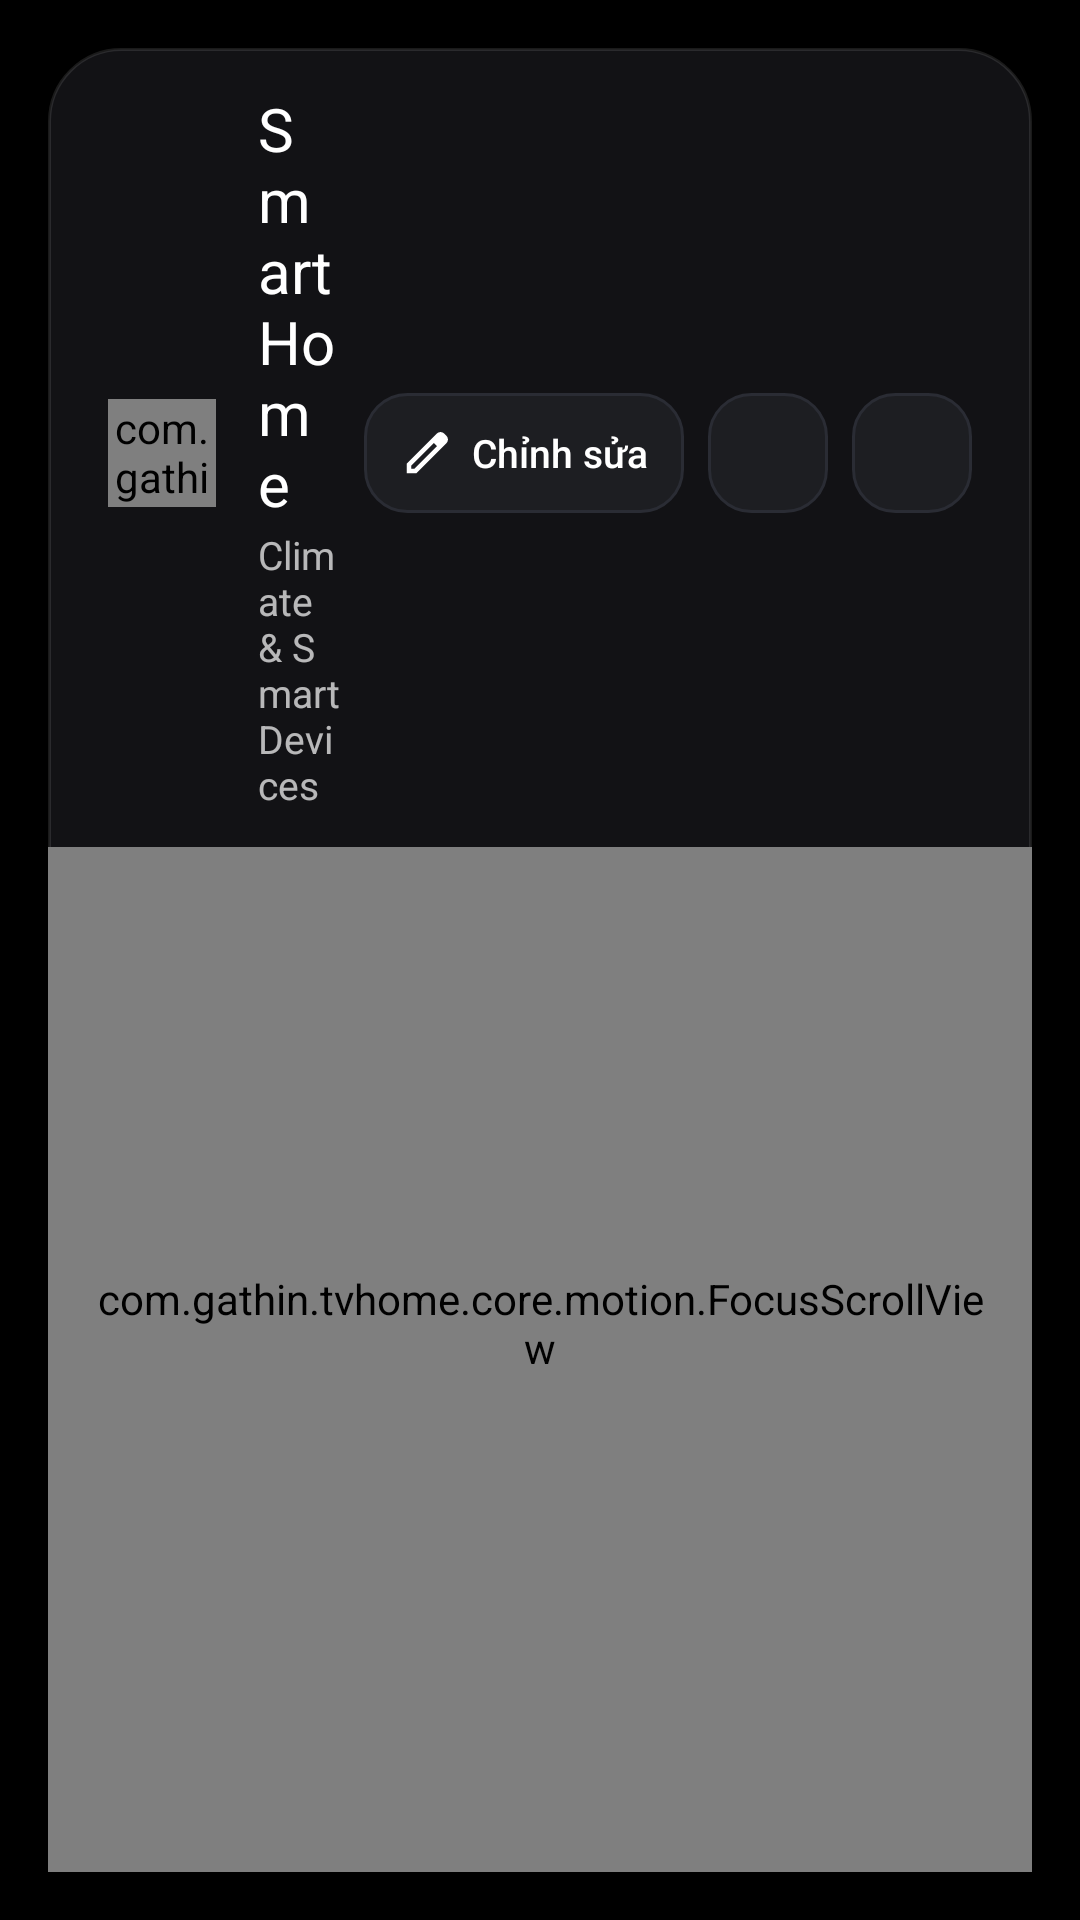

Icon bounding boxes for this 1080px x 1920px phone screenshot, format (x1, y1, x2, y2):
edit: (406, 432, 448, 474)
